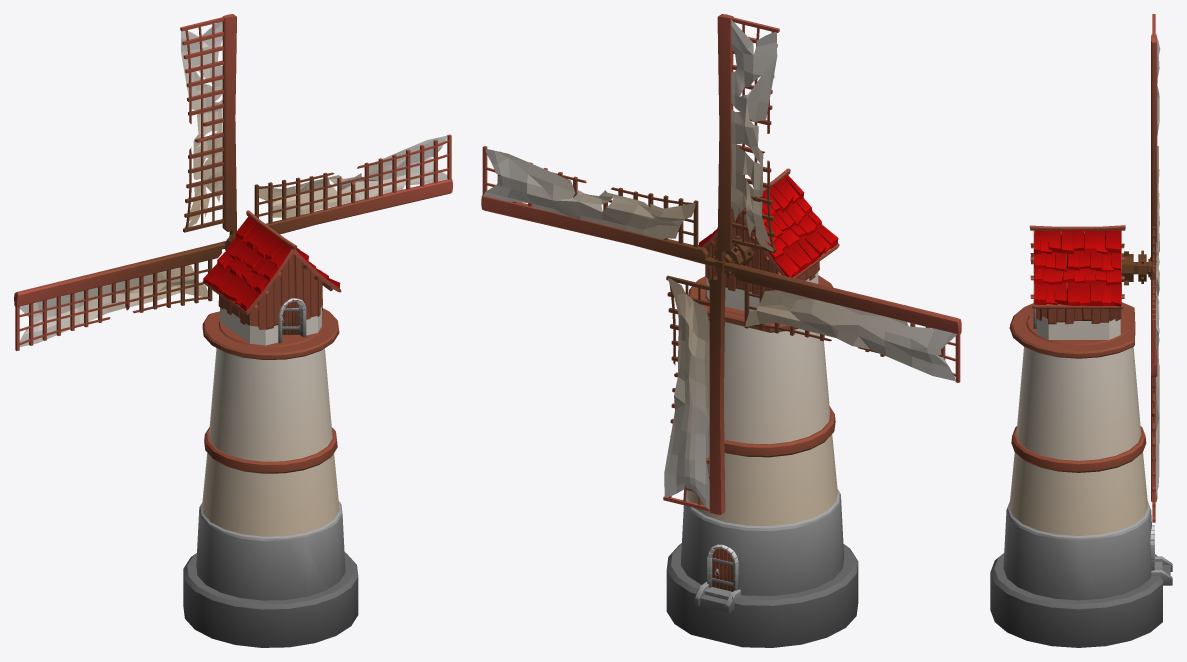
The model's file is Windmill2.fbx.
The picture shows the model from 3 angles, left to right: view 1: azimuth 30°, elevation 25°; view 2: azimuth 150°, elevation 25°; view 3: azimuth 270°, elevation 25°; orthographic projection. The views are drawn at different scales.
Parts seen in each view (by area): view 1: Windmill, Rotation; view 2: Windmill, Rotation; view 3: Windmill, Rotation.
Part boxes in pixels (left/top/right/bottom): Windmill: left=183, top=210, right=358, bottom=647; Rotation: left=14, top=14, right=452, bottom=350; Windmill: left=666, top=168, right=858, bottom=647; Rotation: left=481, top=14, right=961, bottom=514; Windmill: left=990, top=225, right=1172, bottom=647; Rotation: left=1133, top=14, right=1160, bottom=522.
Size of the model in its own units: 30.79 by 38.4 by 11.08.
